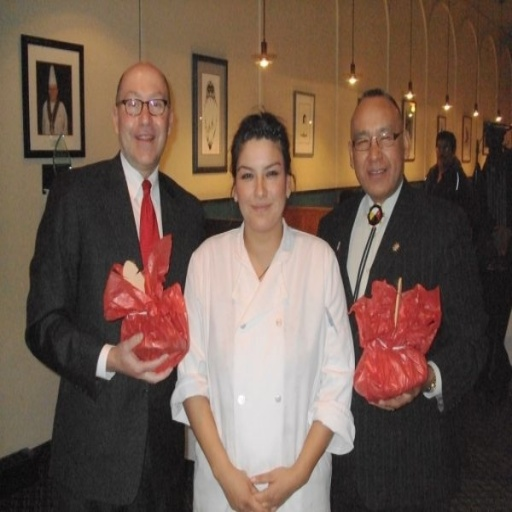hand: (110, 328, 172, 386), (221, 465, 267, 510), (249, 465, 294, 510), (366, 383, 422, 414)
